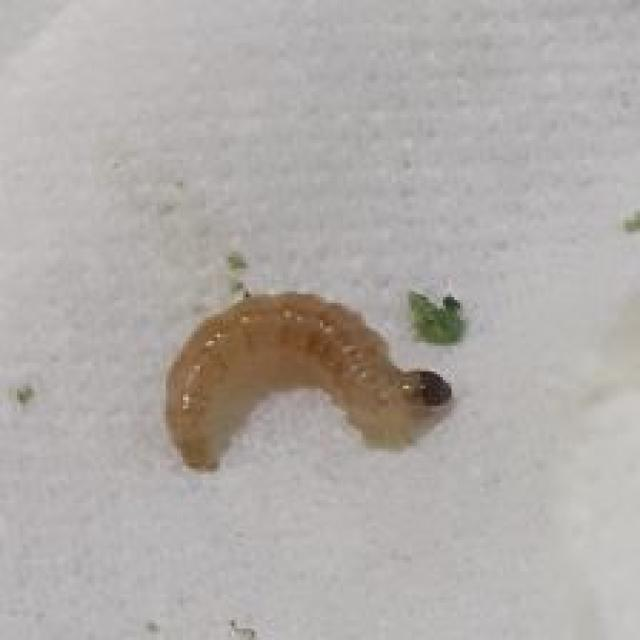white mucus: (144, 266, 481, 508)
